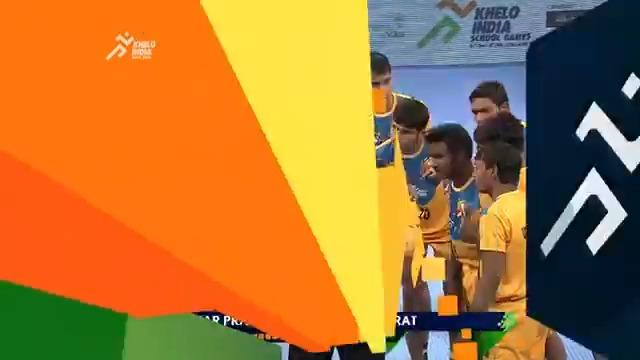Player: (369, 51, 574, 358)
referee: (522, 0, 639, 358), (469, 110, 567, 358), (470, 110, 527, 317), (468, 79, 525, 204), (467, 79, 510, 124)
